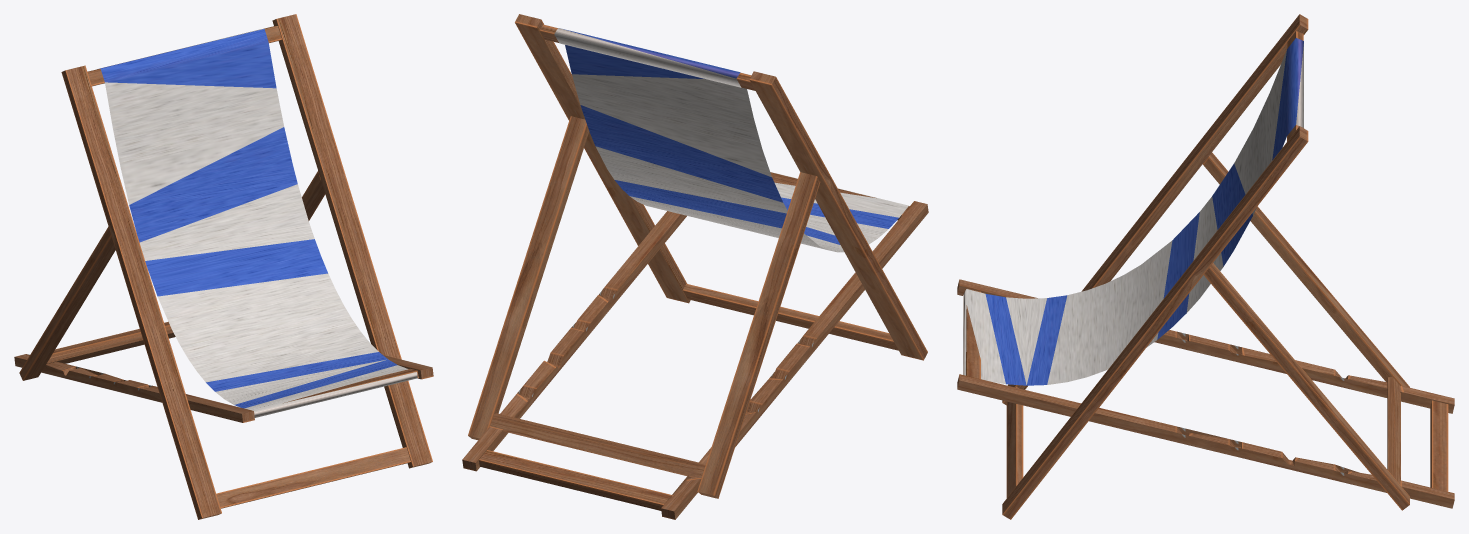
Rendered from Chair1_LOD2.fbx.
3 views of the same model, side by side, from view 1: azimuth 30°, elevation 25°; view 2: azimuth 150°, elevation 25°; view 3: azimuth 270°, elevation 25° (orthographic). The views are drawn at different scales.
Parts seen in each view (by area): view 1: Plane, Cube.001, Cube.006, Cube.004, Cube, Cylinder, Cube.005, Cube.003; view 2: Plane, Cube.006, Cube.001, Cube.004, Cylinder, Cube.005, Cube; view 3: Plane, Cube.001, Cube.004, Cube.006, Cube.005, Cube, Cylinder, Cube.003.
Part boxes in pixels (<box>): Plane: <box>97,29,417,417</box>; Cube.001: <box>61,14,432,519</box>; Cube.006: <box>19,171,325,380</box>; Cube.004: <box>14,354,433,422</box>; Cube: <box>216,447,410,508</box>; Cylinder: <box>46,327,175,363</box>; Cube.005: <box>51,321,170,355</box>; Cube.003: <box>283,369,418,403</box>; Plane: <box>554,28,908,252</box>; Cube.006: <box>468,116,820,498</box>; Cube.001: <box>515,14,927,360</box>; Cube.004: <box>462,201,928,519</box>; Cylinder: <box>490,413,705,477</box>; Cube.005: <box>479,450,673,510</box>; Cube: <box>683,283,898,350</box>; Plane: <box>963,38,1303,385</box>; Cube.001: <box>1002,14,1308,519</box>; Cube.004: <box>957,279,1454,508</box>; Cube.006: <box>1202,152,1409,510</box>; Cube.005: <box>1430,400,1448,491</box>; Cube: <box>1006,387,1023,497</box>; Cylinder: <box>1387,377,1400,484</box>; Cube.003: <box>963,288,980,379</box>.
Size of the model in its own units: 78.55 by 115 by 135.
